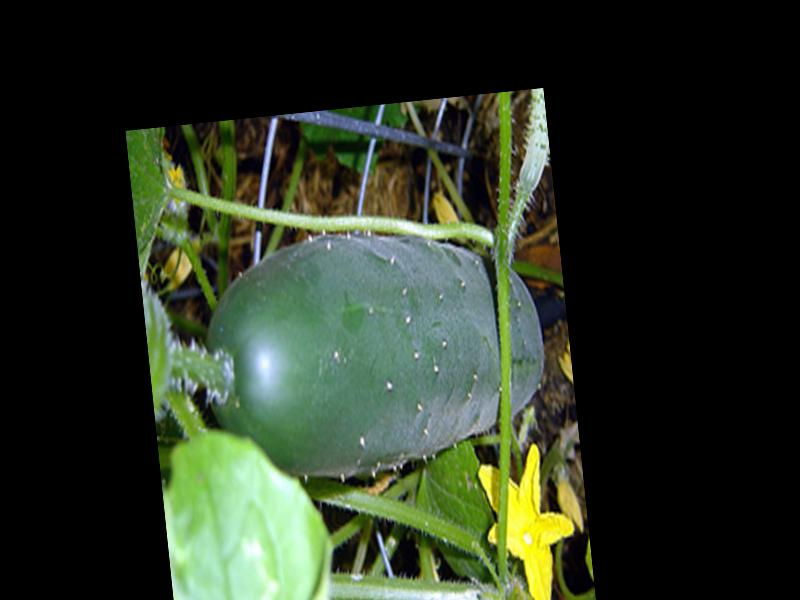Cucumber: (189, 216, 551, 489)
